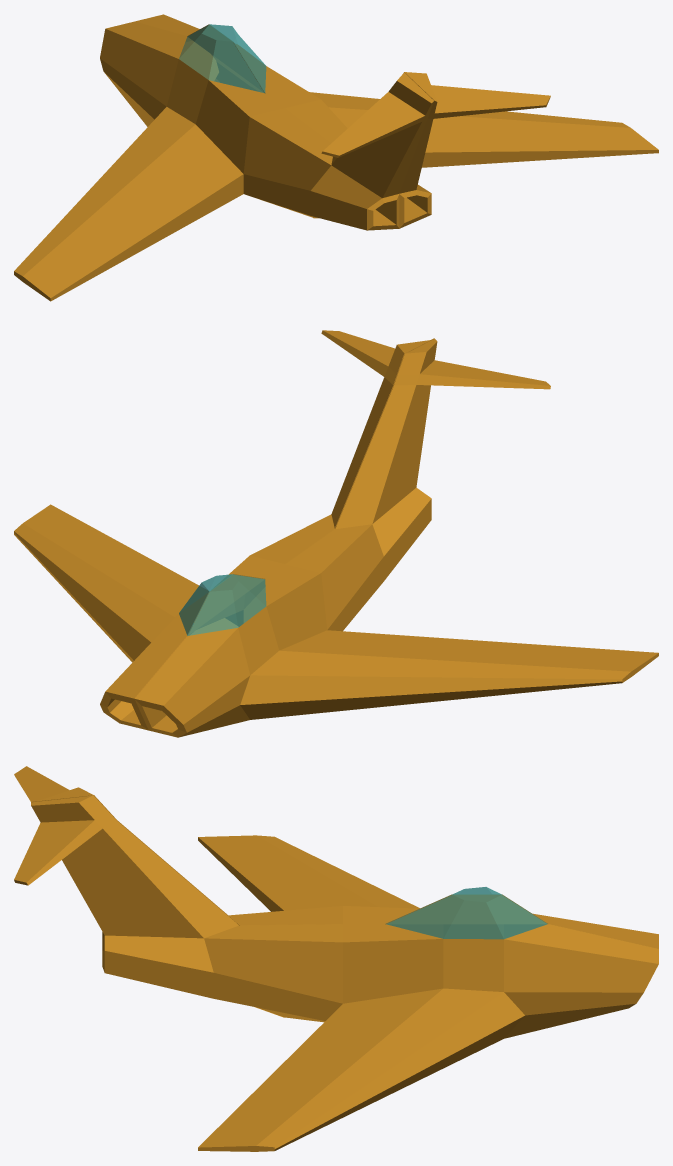
Rendered from plane10minvid.obj.
3 renders of one model, top to bottom at view 1: azimuth 30°, elevation 25°; view 2: azimuth 150°, elevation 25°; view 3: azimuth 270°, elevation 25°, orthographic. The views are drawn at different scales.
Parts seen in each view (by area): view 1: Cube; view 2: Cube; view 3: Cube.
Part boxes in pixels (x1=…): Cube: x1=14, y1=14, x2=658, y2=301; Cube: x1=14, y1=330, x2=658, y2=737; Cube: x1=14, y1=766, x2=658, y2=1151.
Bounding box in the file's own units: 14.27 × 4.77 × 12.52.
